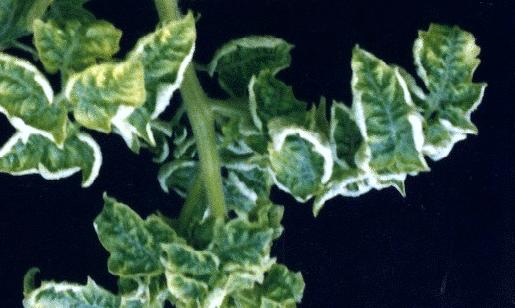Tomato leaf yellow virus: (346, 27, 426, 185), (412, 19, 491, 145), (0, 121, 109, 197), (87, 189, 167, 287), (63, 55, 161, 134), (0, 42, 74, 145), (263, 104, 335, 209), (22, 260, 154, 308)
